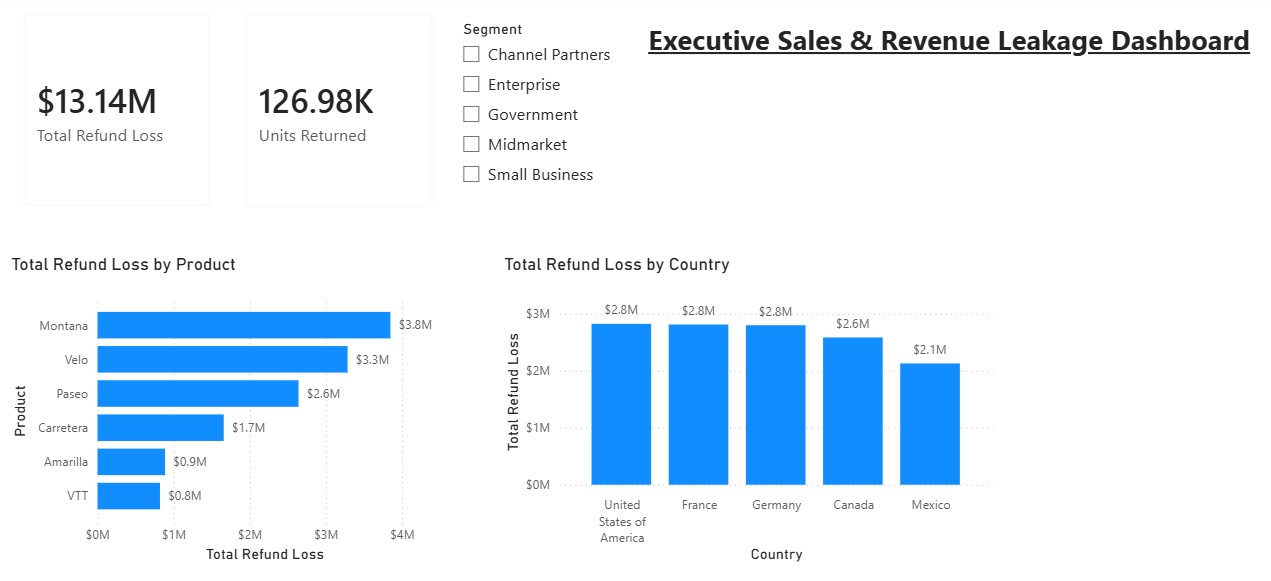

The page's visual inventory and layout, read from the dashboard file:
{"tool":"powerbi","page":{"name":"Page 1","canvas":[1280,720],"ordinal":0},"visuals":[{"type":"cardVisual","fields":{"Data":["Returns.Total Refund Loss"]},"box":[9.7,0,215.9,221.8],"z":0},{"type":"cardVisual","fields":{"Data":["Returns.Units Returned"]},"box":[225.7,0,216,222],"z":1},{"type":"clusteredBarChart","fields":{"Category":["Returns.Product"],"Y":["Returns.Total Refund Loss"]},"box":[9.7,250.9,431.9,304.4],"z":2},{"type":"clusteredColumnChart","fields":{"Category":["financials.Country"],"Y":["Returns.Total Refund Loss"]},"box":[489.2,250.9,485.3,304.4],"z":3},{"type":"slicer","fields":{"Values":["financials.Segment"]},"box":[441.6,18.5,167.3,203.3],"z":4},{"type":"textbox","box":[629.3,18.5,630.3,154.7],"z":5}]}

Visuals, with their boxes on the page's 1280x720 design canvas (x1, y1, x2, y2). These are canvas units, not pixel positions in the 1271x581 screenshot, which may show the page scaled, cropped or inside an application window:
cardVisual - Returns.Total Refund Loss: BBox(10, 0, 226, 222)
cardVisual - Returns.Units Returned: BBox(226, 0, 442, 222)
clusteredBarChart - Returns.Product x Returns.Total Refund Loss: BBox(10, 251, 442, 555)
clusteredColumnChart - financials.Country x Returns.Total Refund Loss: BBox(489, 251, 974, 555)
slicer - financials.Segment: BBox(442, 18, 609, 222)
textbox: BBox(629, 18, 1260, 173)
